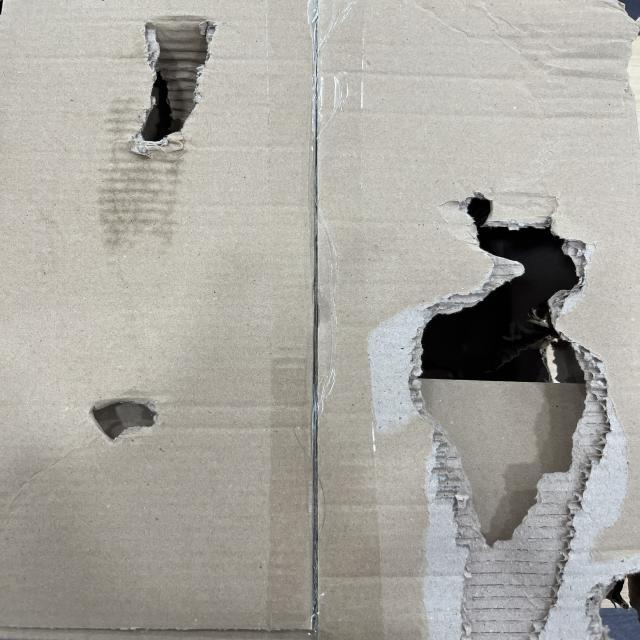hole: (402, 194, 610, 546), (125, 13, 221, 156), (81, 388, 160, 444)
